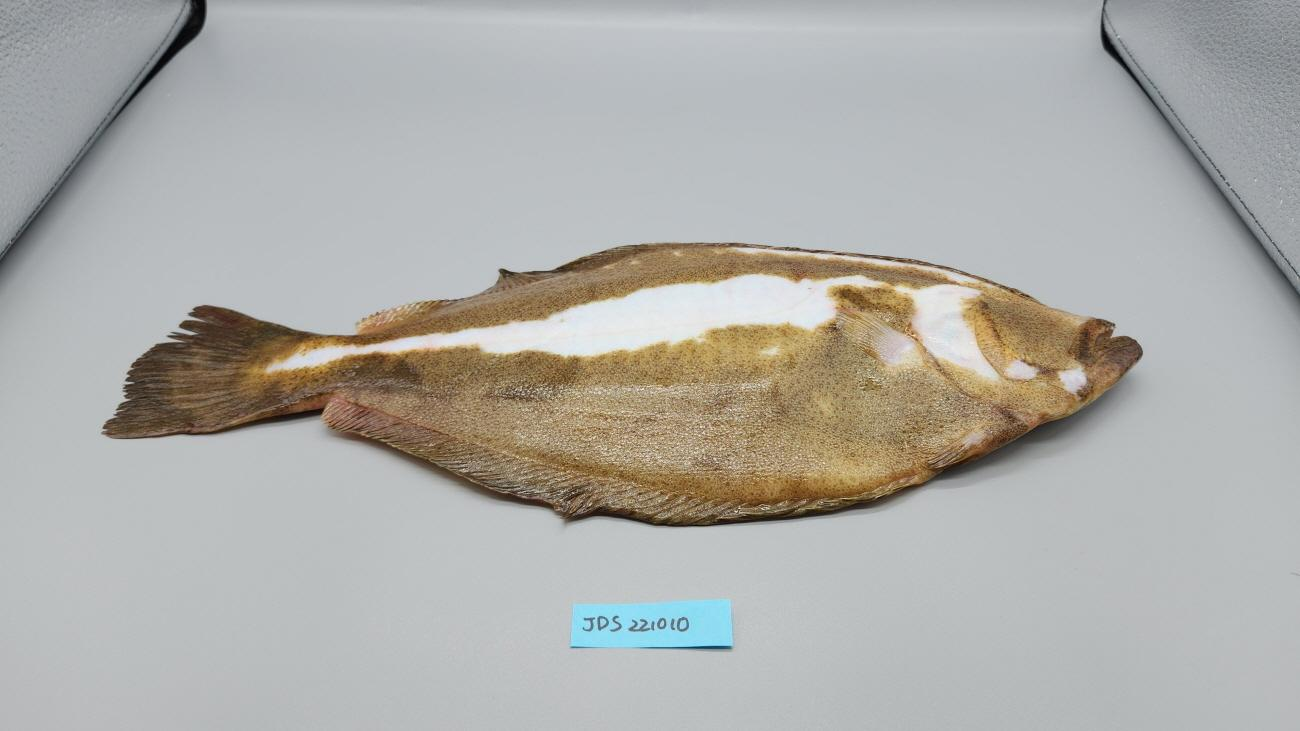VIFCH: (193, 303, 248, 324)
VIFCN: (117, 300, 236, 403)
VIOUY: (100, 237, 1138, 529)
